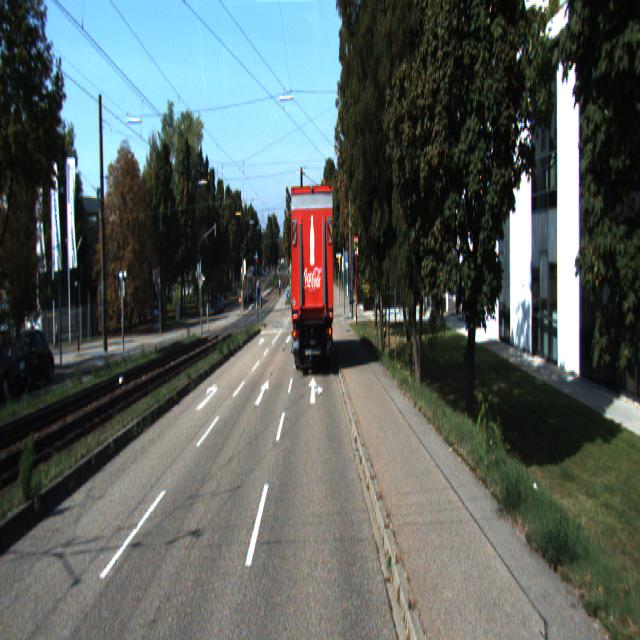Car: (288, 176, 337, 372), (6, 328, 56, 394)
